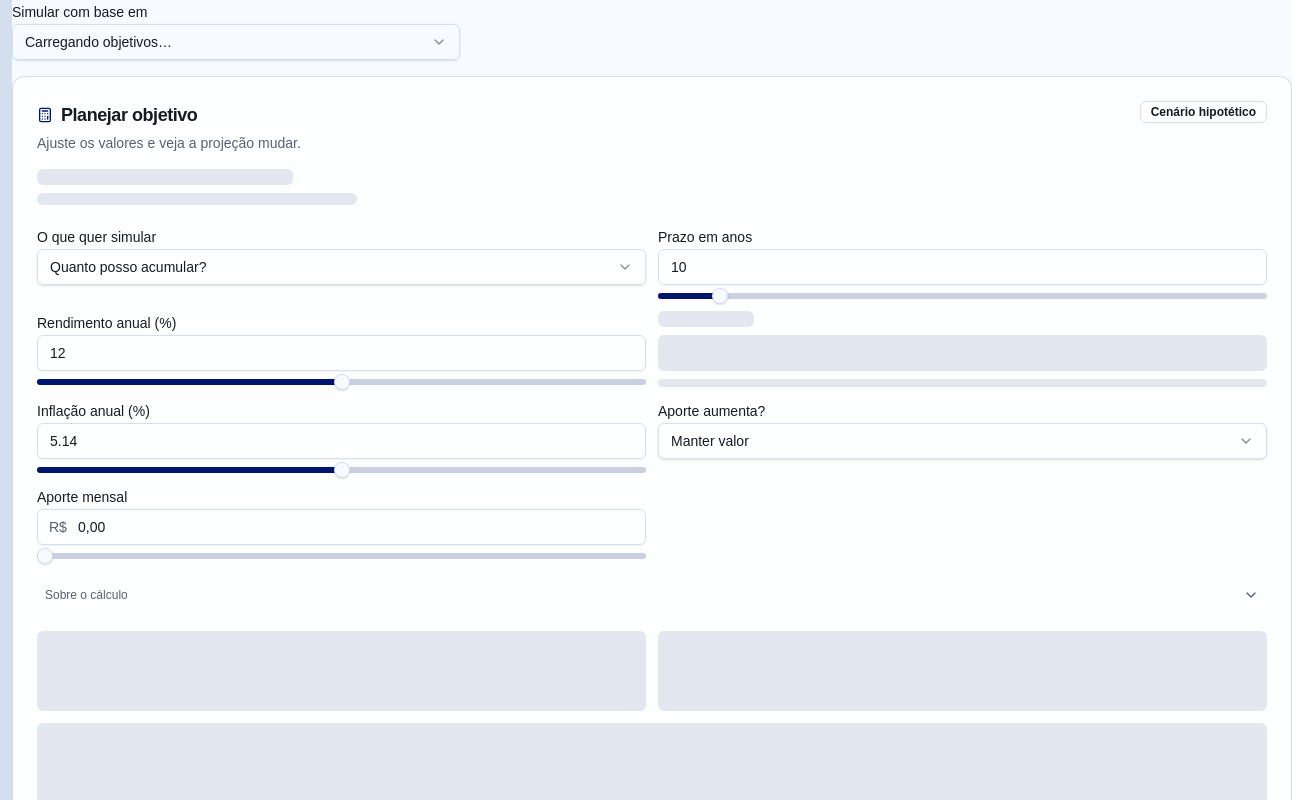
it: PlanningSimulator › shows a loading option for a selected objective while options are pending
Click the dropdown named "Base da simulação": (99, 42) [12,24,460,60]
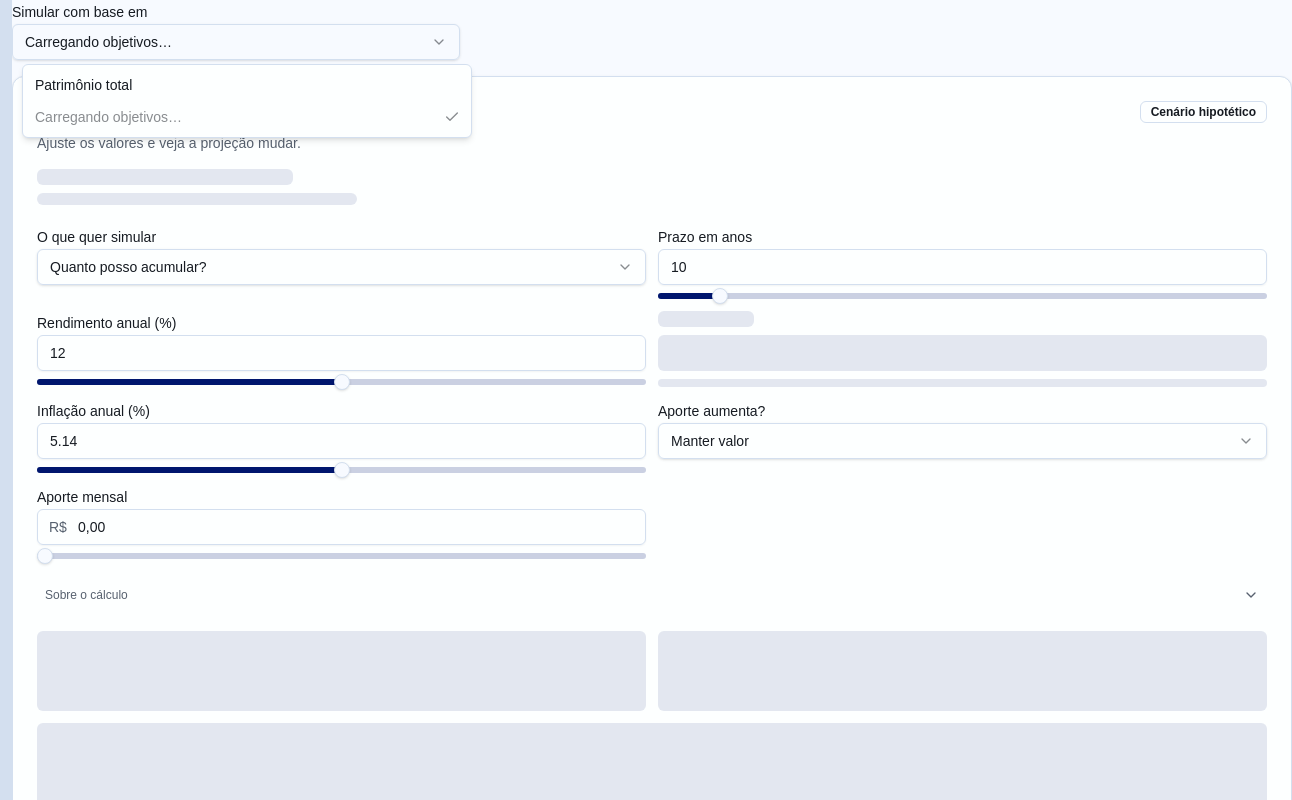
expect the text "Carregando objetivos…" is shown 2 times: met, box [25,32,172,52]; [35,107,182,127]
